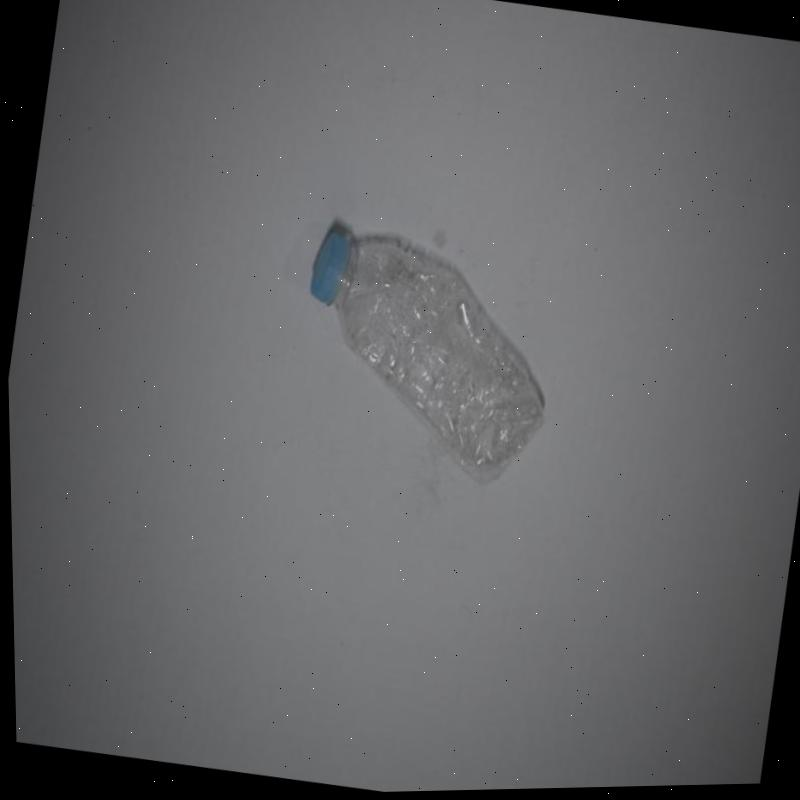botella: (277, 217, 566, 494)
